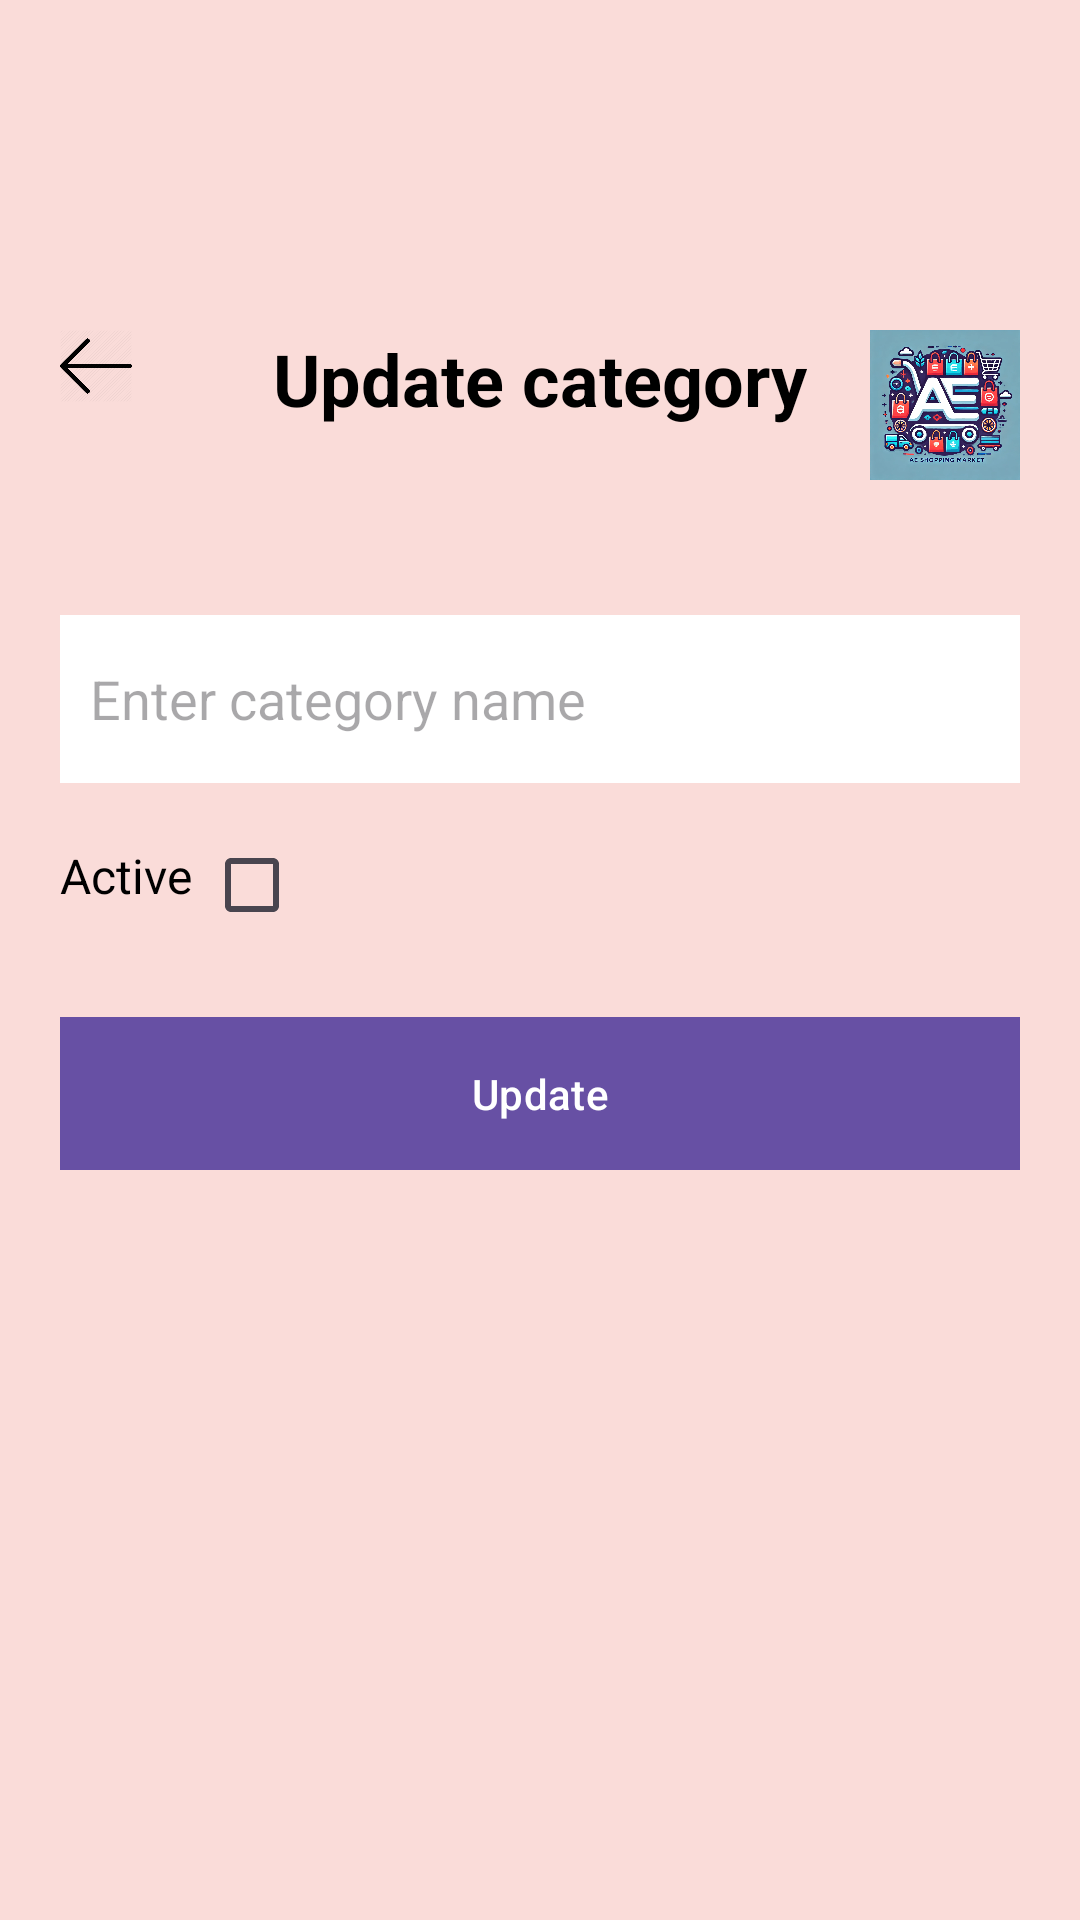

Where icons sit on this 1080*1920 app screen, as bbox(x1, y1, x2, y2):
back arrow: bbox(60, 338, 132, 394)
